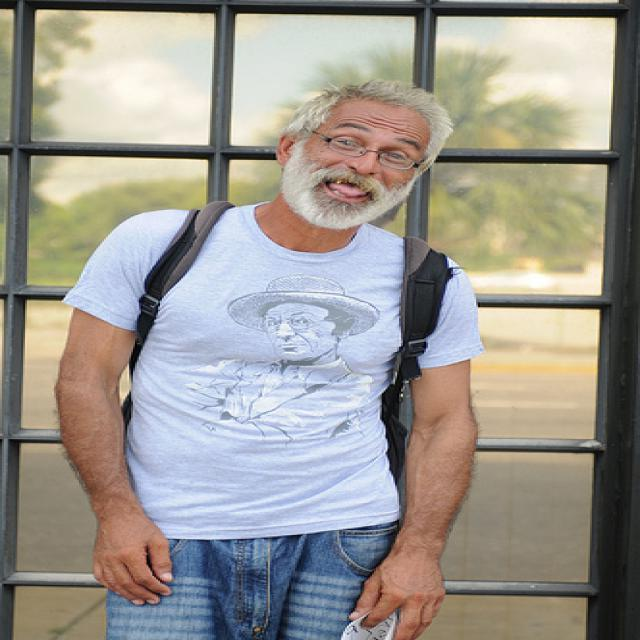short sleeve shirt: (58, 199, 484, 543)
trousers: (104, 508, 403, 640)
